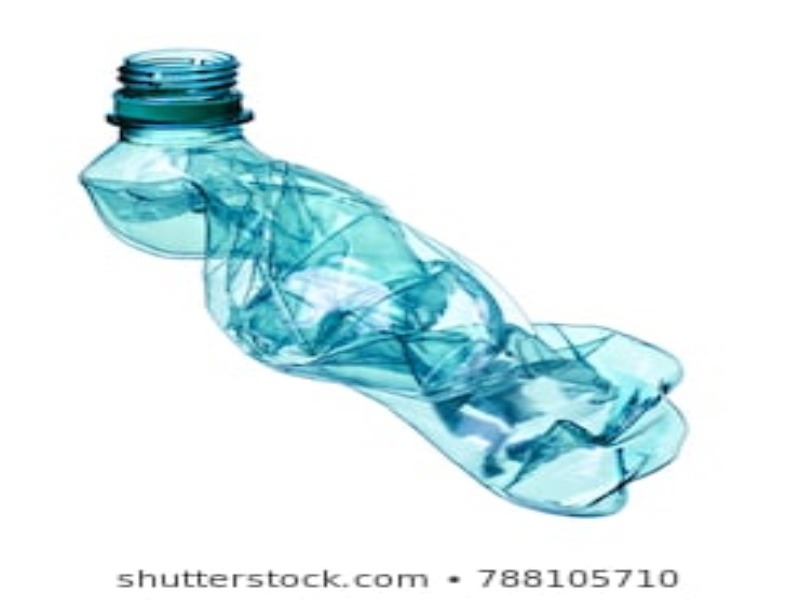plastic-bottle: (78, 46, 690, 519)
